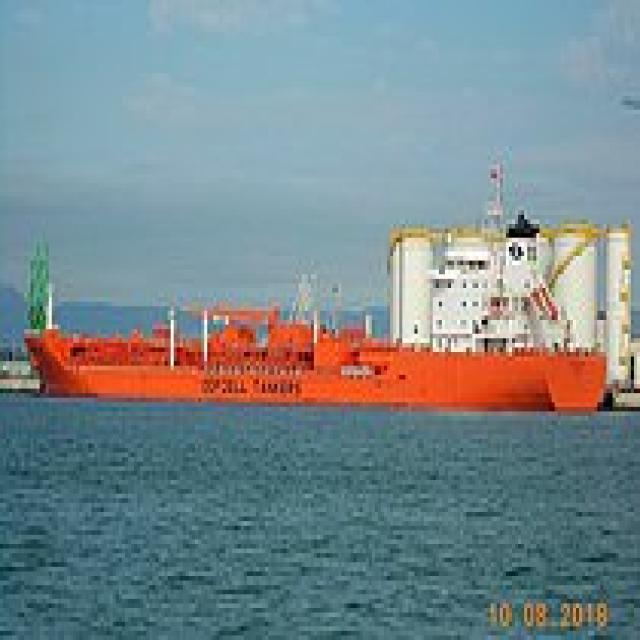Tanker: (12, 279, 610, 416)
